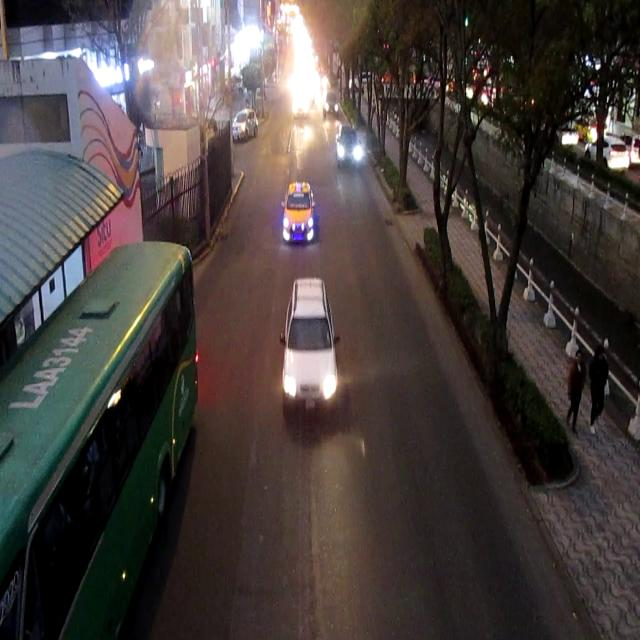BUS: (3, 246, 201, 639)
SED: (283, 186, 313, 244)
SUV: (281, 281, 336, 419), (234, 112, 258, 143)
